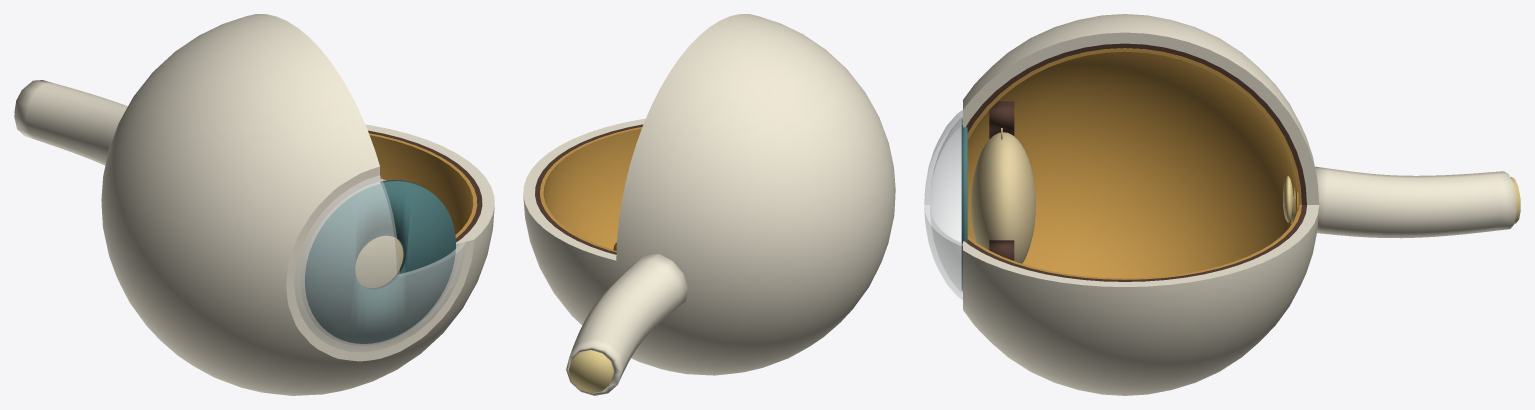
File: eye.glb
The picture shows the model from 3 angles, left to right: view 1: azimuth 30°, elevation 25°; view 2: azimuth 150°, elevation 25°; view 3: azimuth 270°, elevation 25°; orthographic projection. The views are drawn at different scales.
Parts seen in each view (by area): view 1: Sclera finite quarter cutaway, Finite corneal cap quarter cutaway, Iris with real pupil aperture, Optic nerve outer sheath, Retina finite quarter cutaway, Biconvex crystalline lens, Choroid finite quarter cutaway; view 2: Sclera finite quarter cutaway, Retina finite quarter cutaway, Optic nerve outer sheath, Optic nerve, Choroid finite quarter cutaway; view 3: Retina finite quarter cutaway, Sclera finite quarter cutaway, Optic nerve outer sheath, Biconvex crystalline lens, Finite corneal cap quarter cutaway, Choroid finite quarter cutaway, Ciliary body, Iris with real pupil aperture.
Boxes of the visible parts, x1,y1,x2,y2 form: Sclera finite quarter cutaway: (101, 14, 494, 395); Finite corneal cap quarter cutaway: (294, 175, 465, 352); Iris with real pupil aperture: (305, 180, 455, 343); Optic nerve outer sheath: (14, 80, 127, 165); Retina finite quarter cutaway: (369, 133, 477, 238); Biconvex crystalline lens: (355, 179, 403, 288); Choroid finite quarter cutaway: (368, 130, 482, 242); Sclera finite quarter cutaway: (523, 14, 895, 375); Retina finite quarter cutaway: (540, 127, 642, 252); Optic nerve outer sheath: (566, 254, 687, 395); Optic nerve: (568, 350, 614, 393); Choroid finite quarter cutaway: (535, 124, 643, 254); Retina finite quarter cutaway: (967, 48, 1301, 279); Sclera finite quarter cutaway: (963, 14, 1319, 395); Optic nerve outer sheath: (1315, 166, 1516, 238); Biconvex crystalline lens: (971, 132, 1035, 263); Finite corneal cap quarter cutaway: (924, 110, 962, 299); Choroid finite quarter cutaway: (965, 43, 1306, 281); Ciliary body: (989, 101, 1014, 260); Iris with real pupil aperture: (961, 119, 967, 290).
Bounding box in the file's own units: 0.024 × 0.0235 × 0.0368.
Materials: 7 (7 with a texture image).
